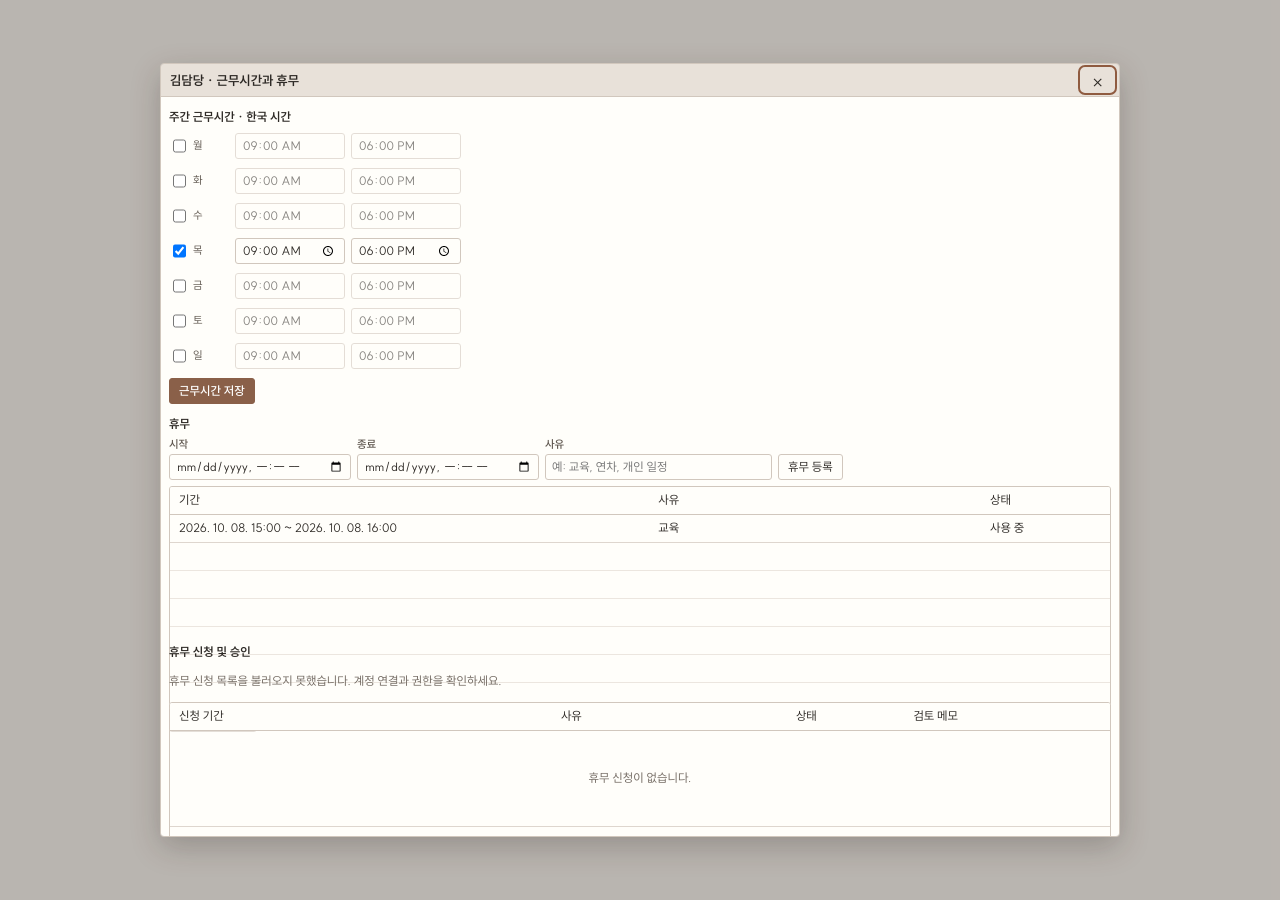
Test case: StaffAvailabilityDialog › 종료가 시작보다 늦지 않으면 보내지 않는다
This screenshot has width=1280, height=900.
Expected: the text "교육" is shown, [649,515,981,543]
Replace the text in the time field named "목요일 종료" with "08:00": (406, 251) [351,238,461,264]
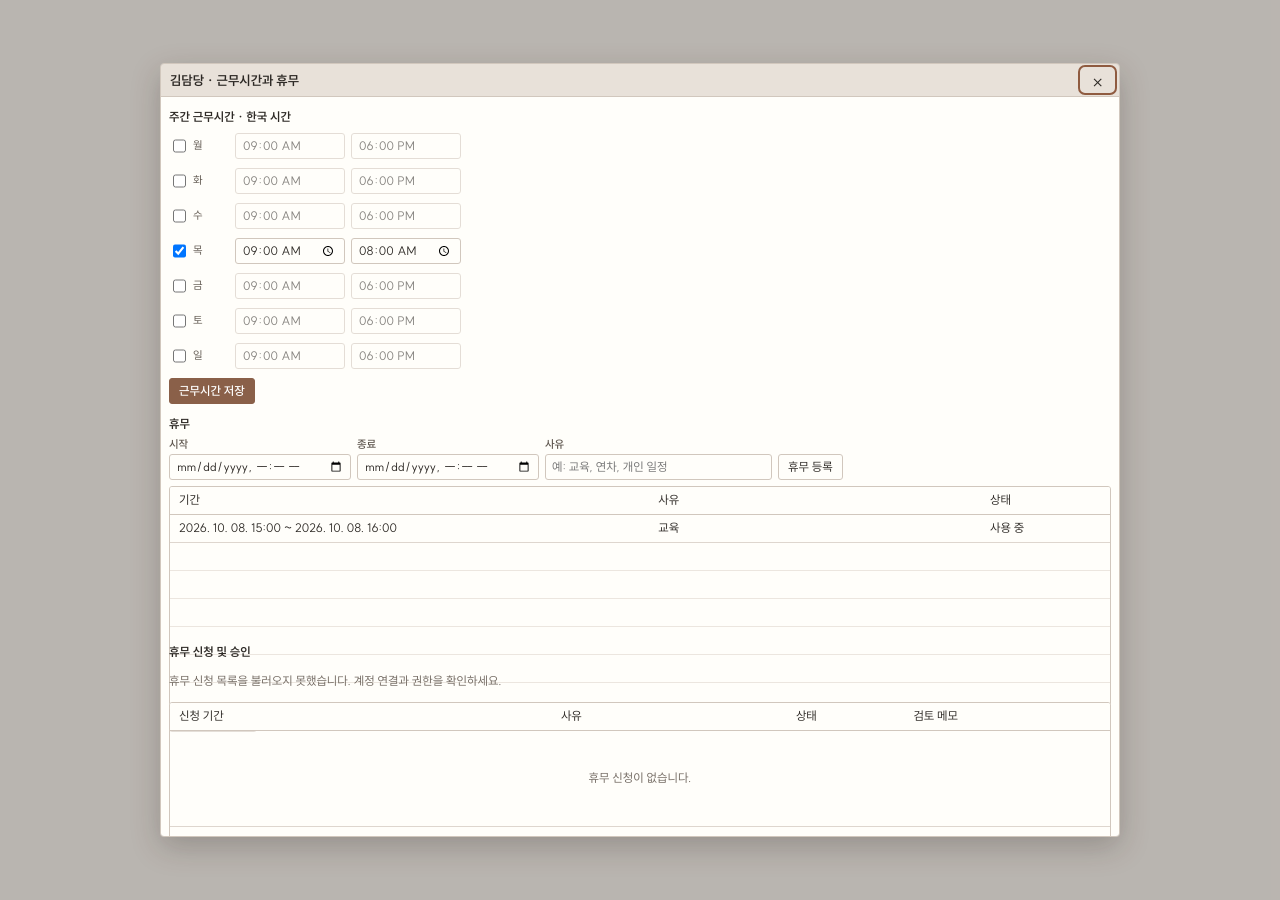
Click the button "근무시간 저장": (212, 391) [169,378,255,404]
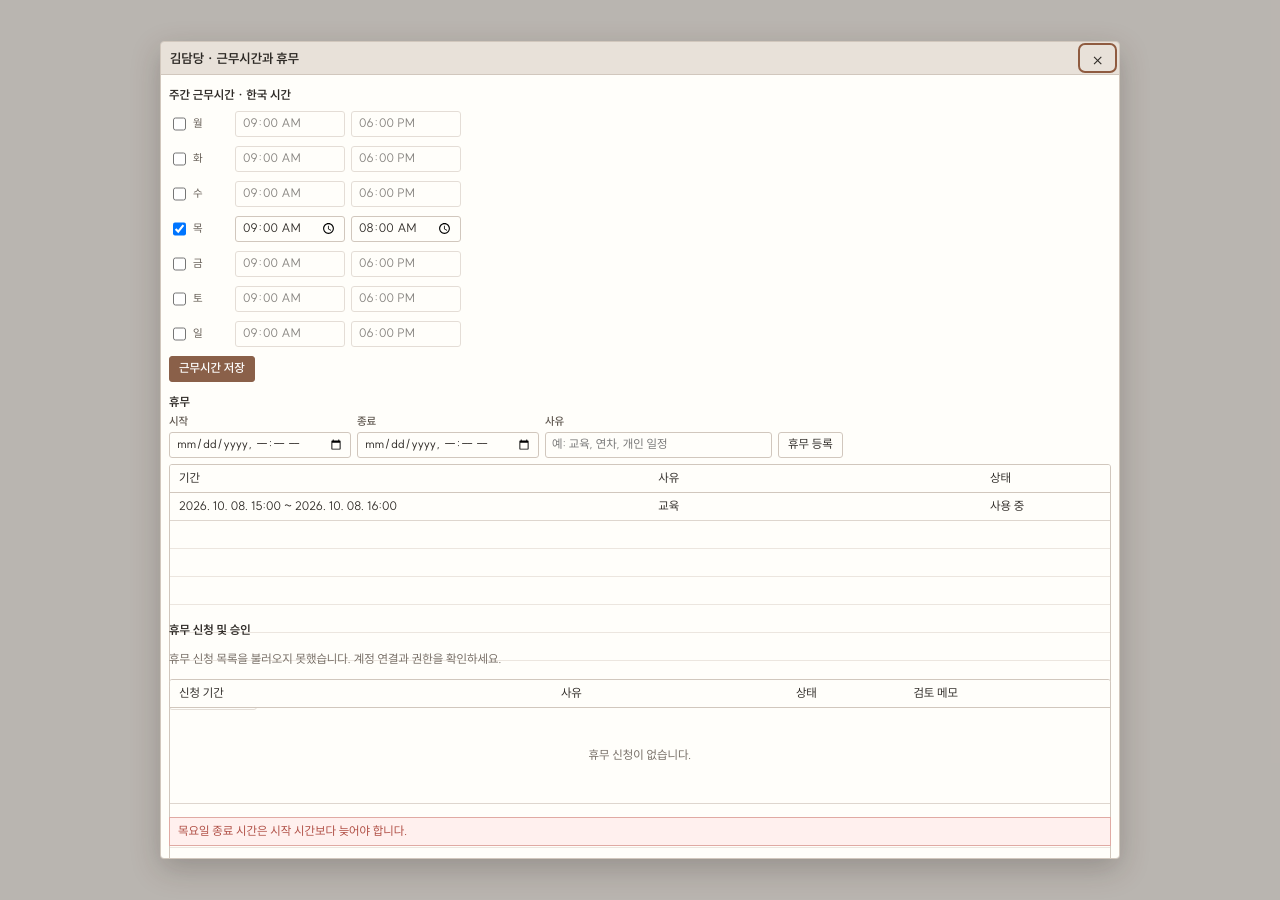
Expected: the text "목요일 종료 시간은 시작 시간보다 늦어야 합니다." is shown, [169,817,1111,846]
